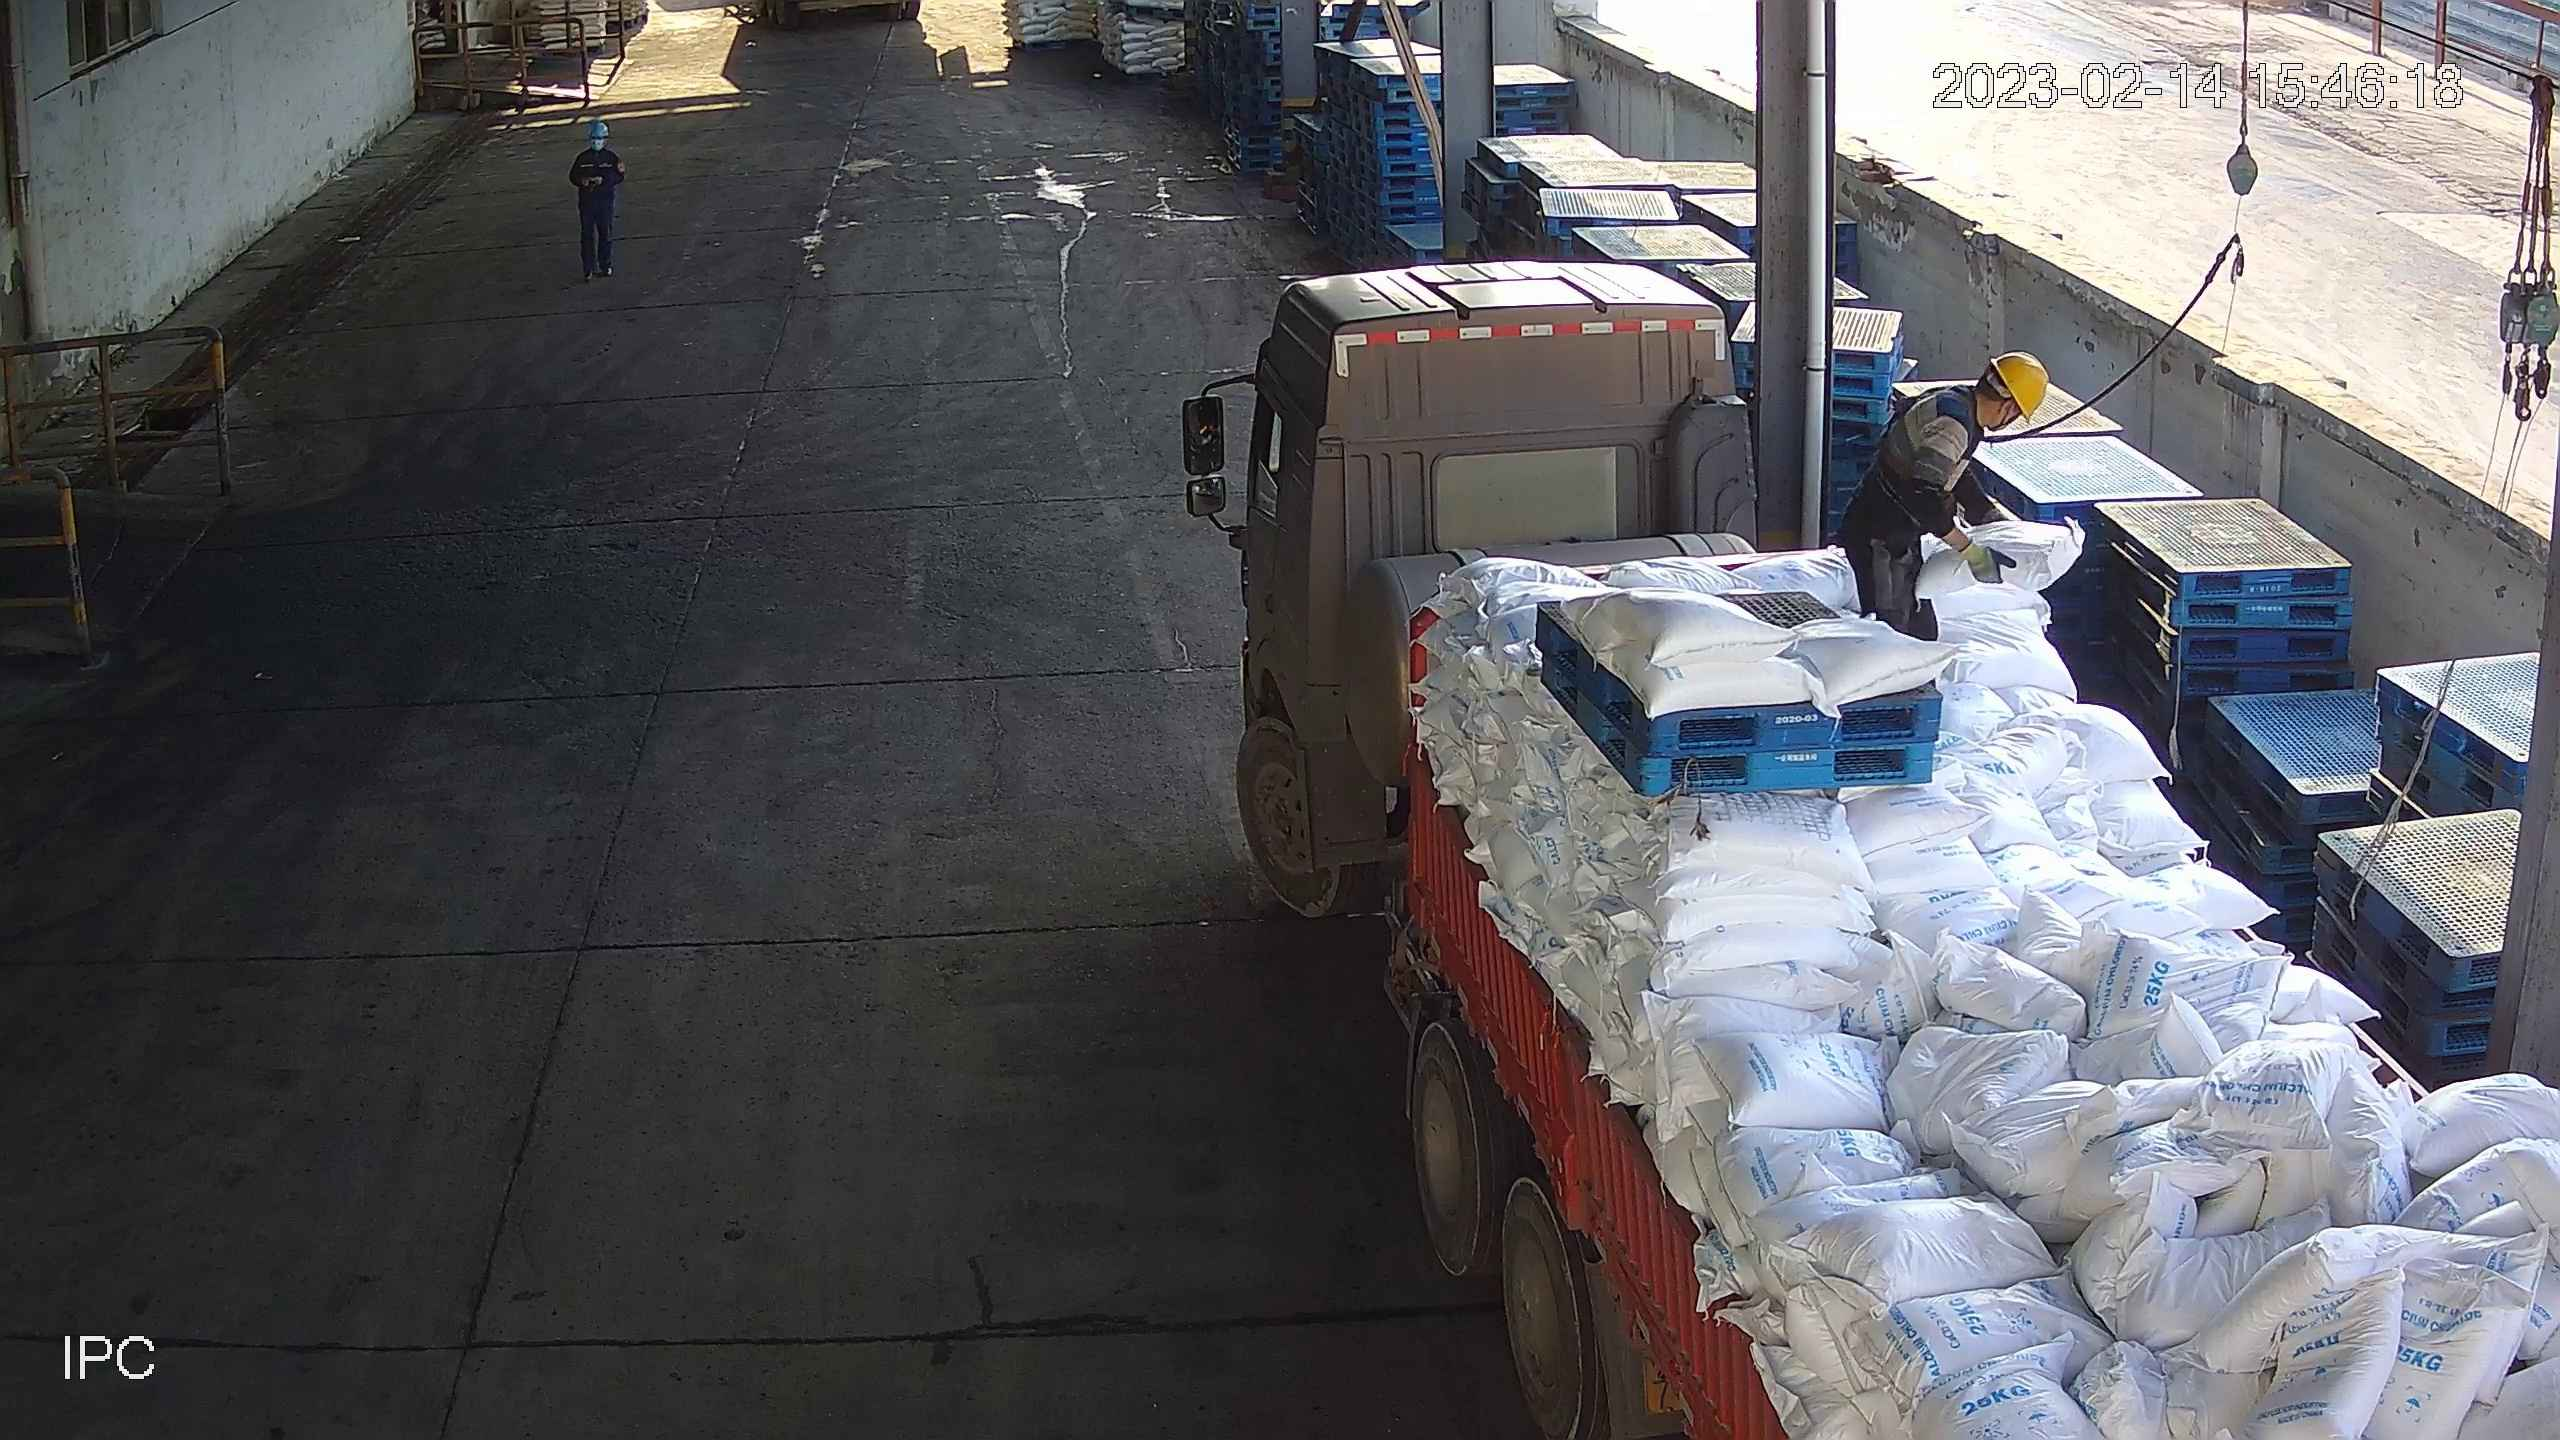head: (1903, 350, 2050, 464)
helmets: (1986, 349, 2051, 427)
people: (1835, 348, 2054, 641)
truck: (1225, 254, 2560, 1440)
